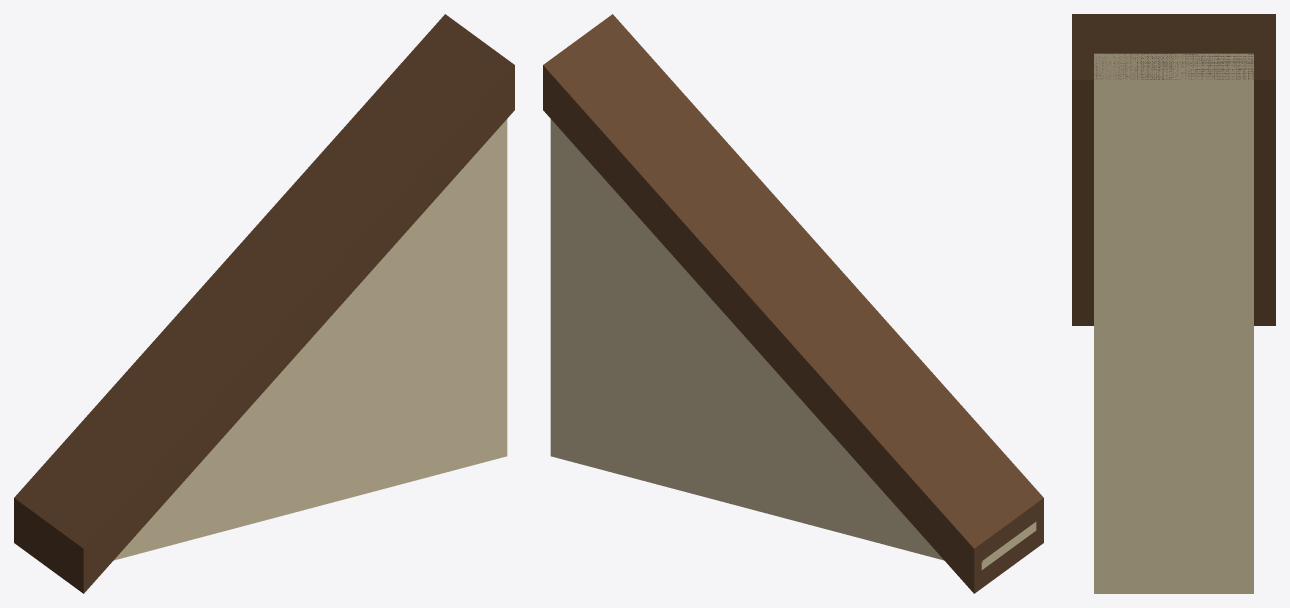
Rendered from Gable0.fbx.
3 views of the same model, side by side, from view 1: azimuth 30°, elevation 25°; view 2: azimuth 150°, elevation 25°; view 3: azimuth 270°, elevation 25° (orthographic). The views are drawn at different scales.
Visible parts, largest first — view 1: Kit_Gable0; view 2: Kit_Gable0; view 3: Kit_Gable0.
Boxes of the visible parts, x1,y1,x2,y2 form: Kit_Gable0: (14,14,514,593); Kit_Gable0: (543,14,1043,593); Kit_Gable0: (1072,14,1275,593).
Bounding box in the file's own units: 1 × 0.9391 × 0.28.
